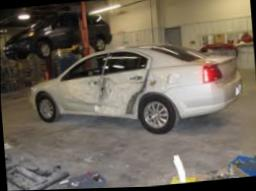Door: (98, 67, 152, 114)
